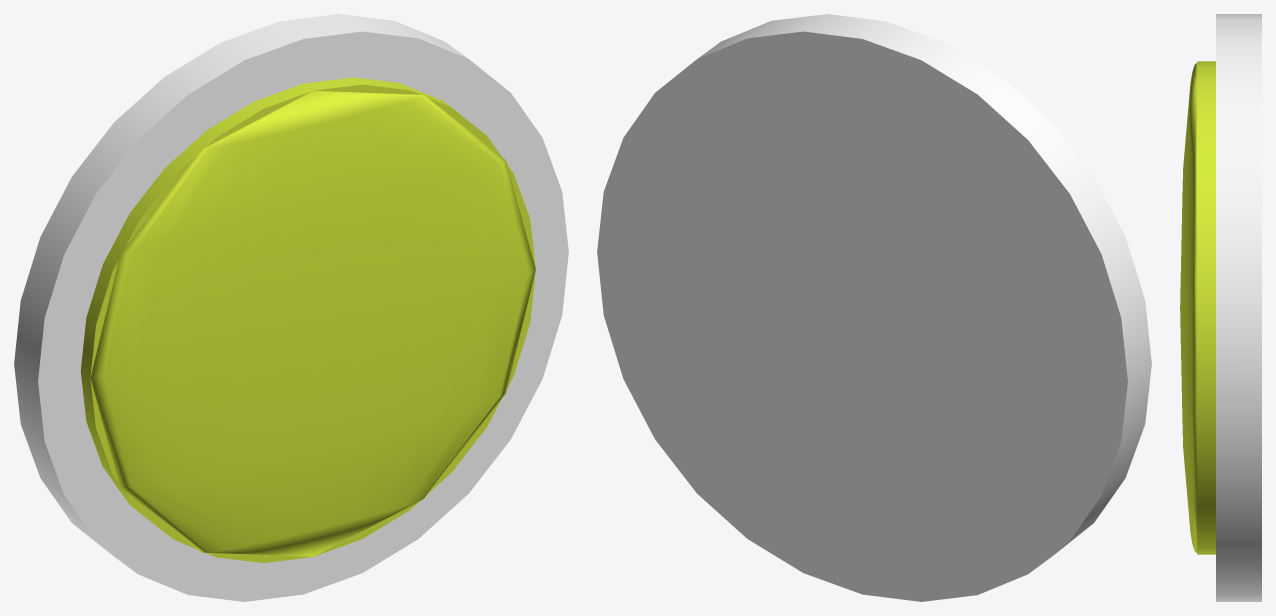
Rendered from Saque.obj.
The picture shows the model from 3 angles, left to right: view 1: azimuth 30°, elevation 25°; view 2: azimuth 150°, elevation 25°; view 3: azimuth 270°, elevation 25°; orthographic projection. The views are drawn at different scales.
Visible parts, largest first — view 1: Saque; view 2: Saque; view 3: Saque.
Part boxes in pixels (bbox=[...]): Saque: bbox=[14, 14, 568, 601]; Saque: bbox=[597, 14, 1151, 601]; Saque: bbox=[1180, 14, 1261, 601].
Bounding box in the file's own units: 0.41 × 0.41 × 0.057.
1 material, 1 textured.
